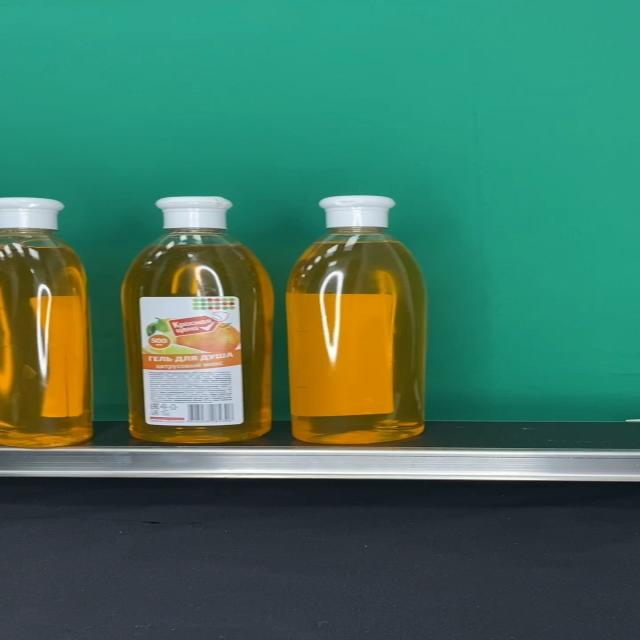Bottle: (121, 196, 274, 442), (288, 195, 426, 446)
Cap: (318, 196, 398, 230), (154, 197, 234, 230)
